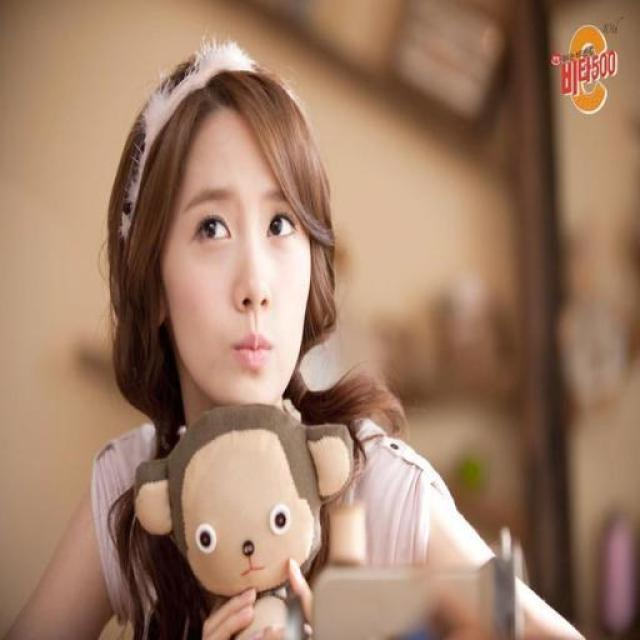bareface: (104, 63, 340, 406)
